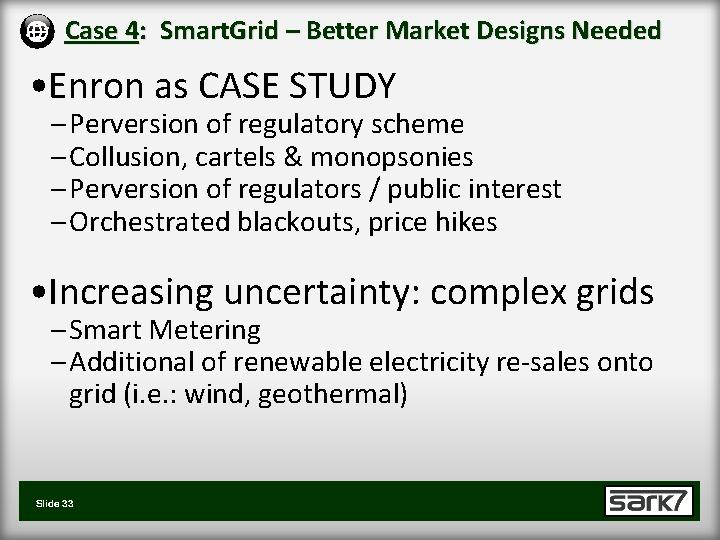paragraph: (20, 49, 693, 449)
subtitle: (47, 268, 662, 316), (48, 67, 415, 105)
title: (60, 6, 672, 50)
